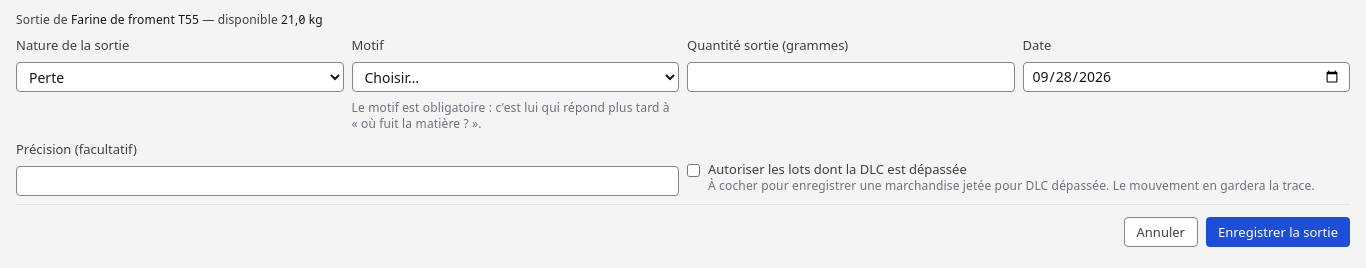
Test: SaisieSortie — refus de saisie : aucun appel réseau ne part sur un formulaire incomplet › une quantité de ZÉRO est refusée comme une quantité absente — un mouvement vide n’existe pas
Select "Casse ou renversement au transport" in the dropdown labelled "Motif": (515, 77) 352,62 -> 679,92
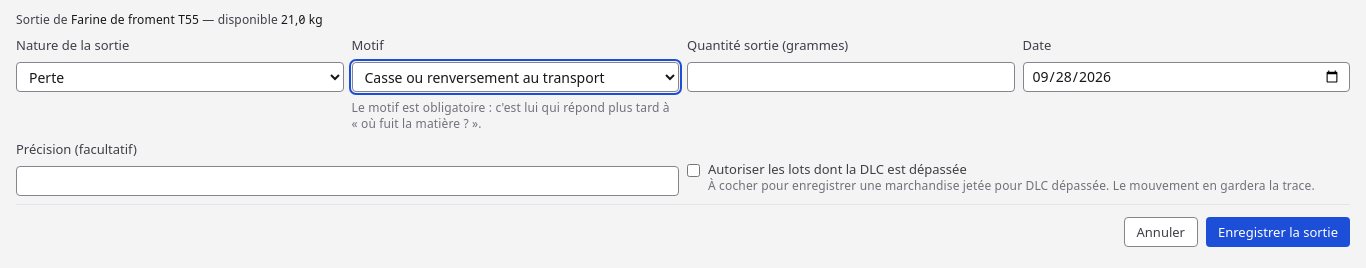
In the field labelled "Quantité sortie (grammes)": (851, 77) 687,62 -> 1014,92, type "0"
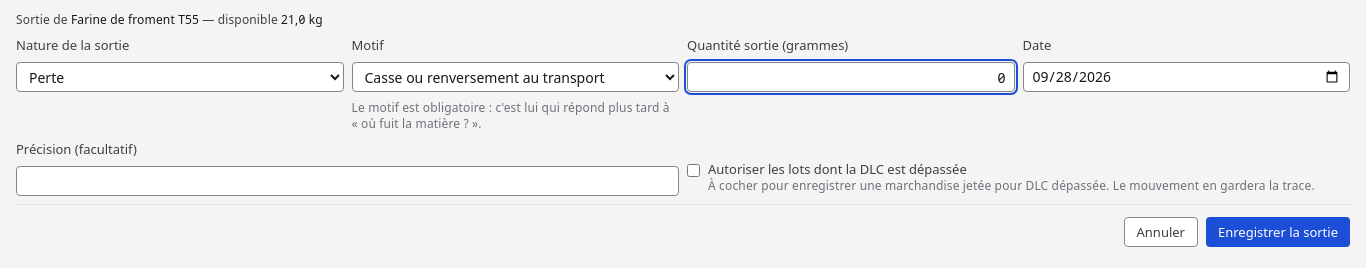
Click the button "Enregistrer la sortie": (1278, 232) 1206,217 -> 1350,247
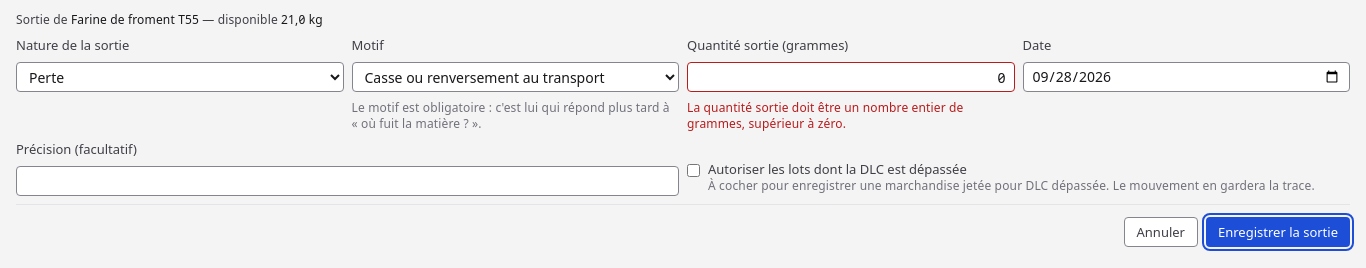
Result: the text "nombre entier de grammes, supérieur à zéro" is shown at 687,99 -> 964,132
